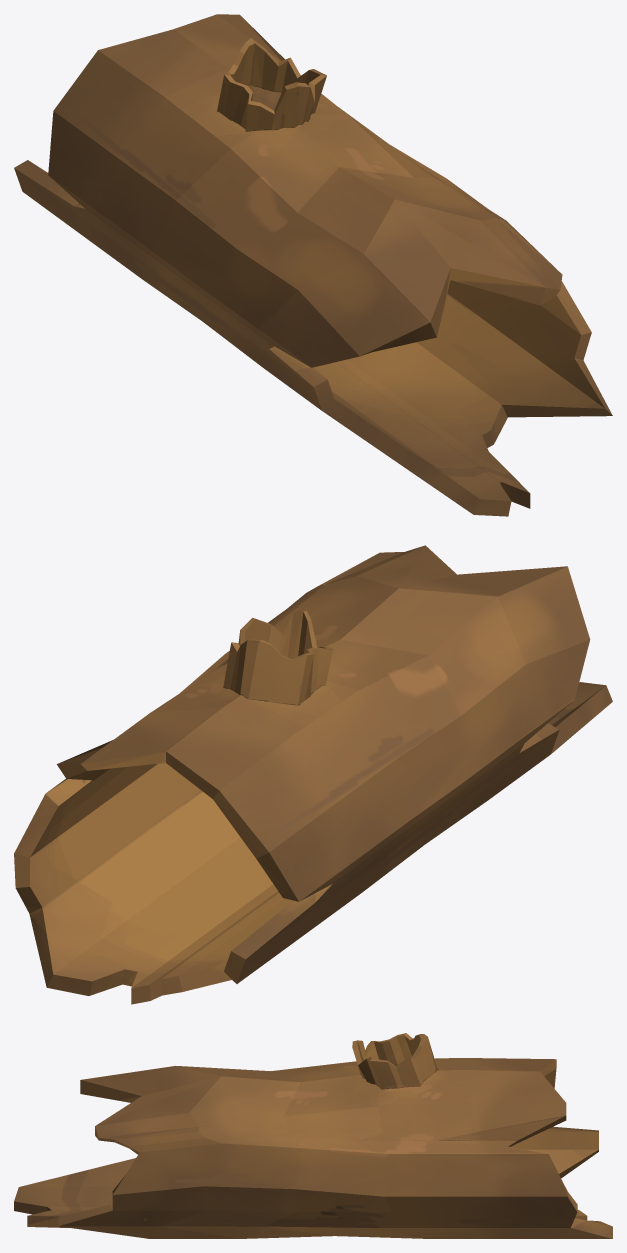
Rendered from batang kayu2.fbx.
The picture shows the model from 3 angles, top to bottom: view 1: azimuth 30°, elevation 25°; view 2: azimuth 150°, elevation 25°; view 3: azimuth 270°, elevation 25°; orthographic projection. The views are drawn at different scales.
Visible parts, largest first — view 1: btng ky2; view 2: btng ky2; view 3: btng ky2.
Part boxes in pixels (left/top/right/bottom): btng ky2: left=14, top=14, right=612, bottom=516; btng ky2: left=14, top=545, right=612, bottom=1004; btng ky2: left=14, top=1033, right=612, bottom=1238.
Bounding box in the file's own units: 51.58 × 52.19 × 149.
